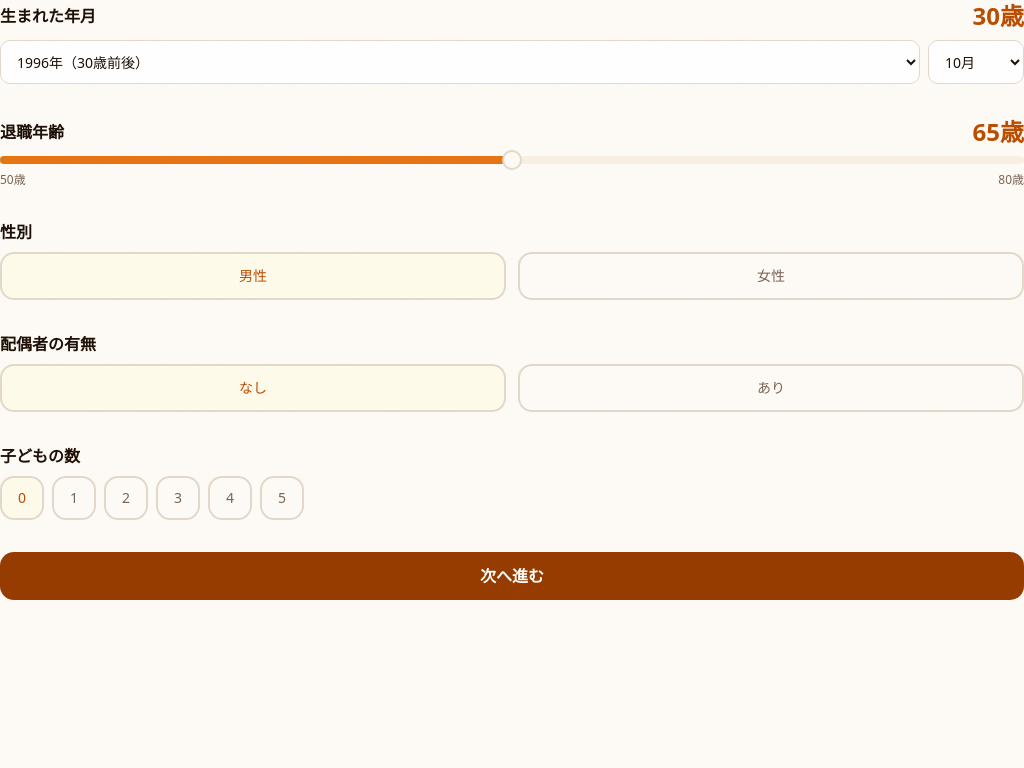
Test: children › choosing a count shows one panel per child, and lowering it removes the extra panels
Step 1. Click the radio button labelled "3" → (178, 498), box left=156, top=476, right=200, bottom=520
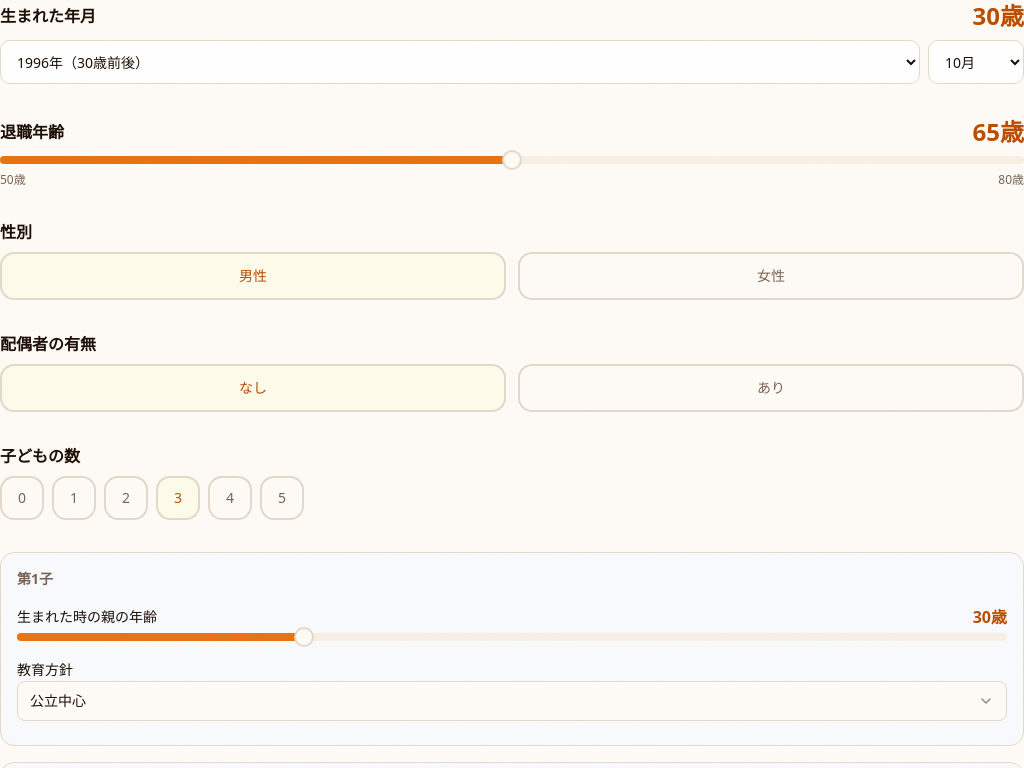
Check: the radio button labelled "3" is checked, box left=156, top=476, right=200, bottom=520
Step 2. Click the radio button labelled "1" → (74, 498), box left=52, top=476, right=96, bottom=520
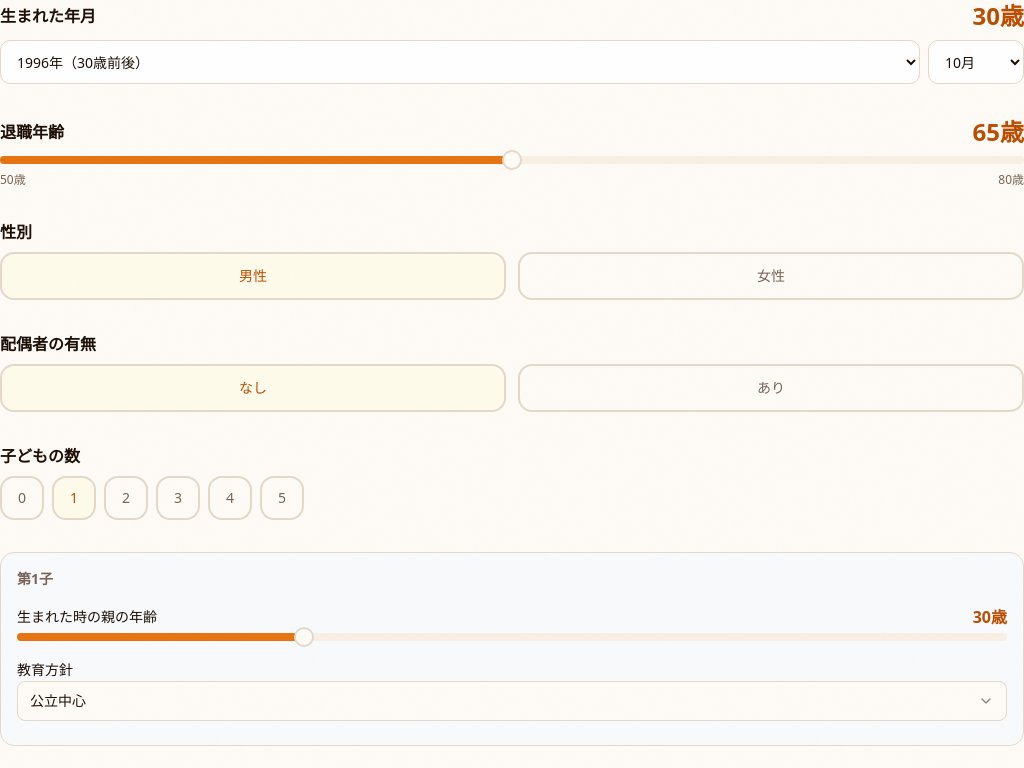
Check: the text "第1子" is shown, box left=17, top=569, right=53, bottom=588
Step 3. Click the radio button labelled "0" → (22, 498), box left=0, top=476, right=44, bottom=520
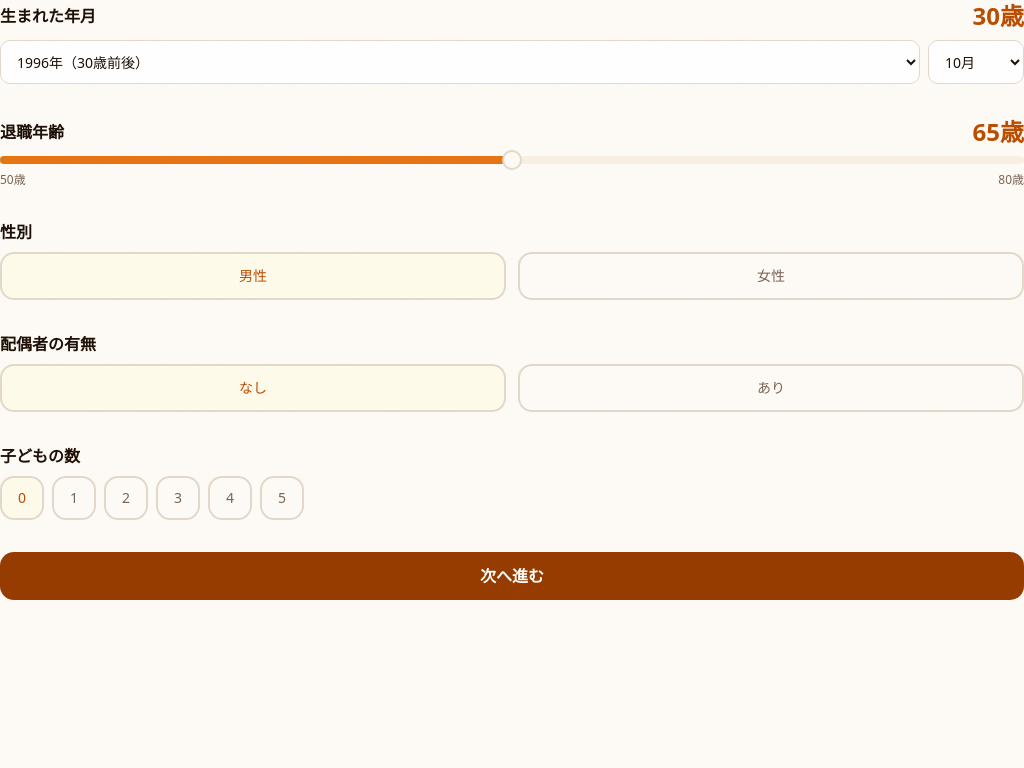
Check: the text "第1子" is gone
